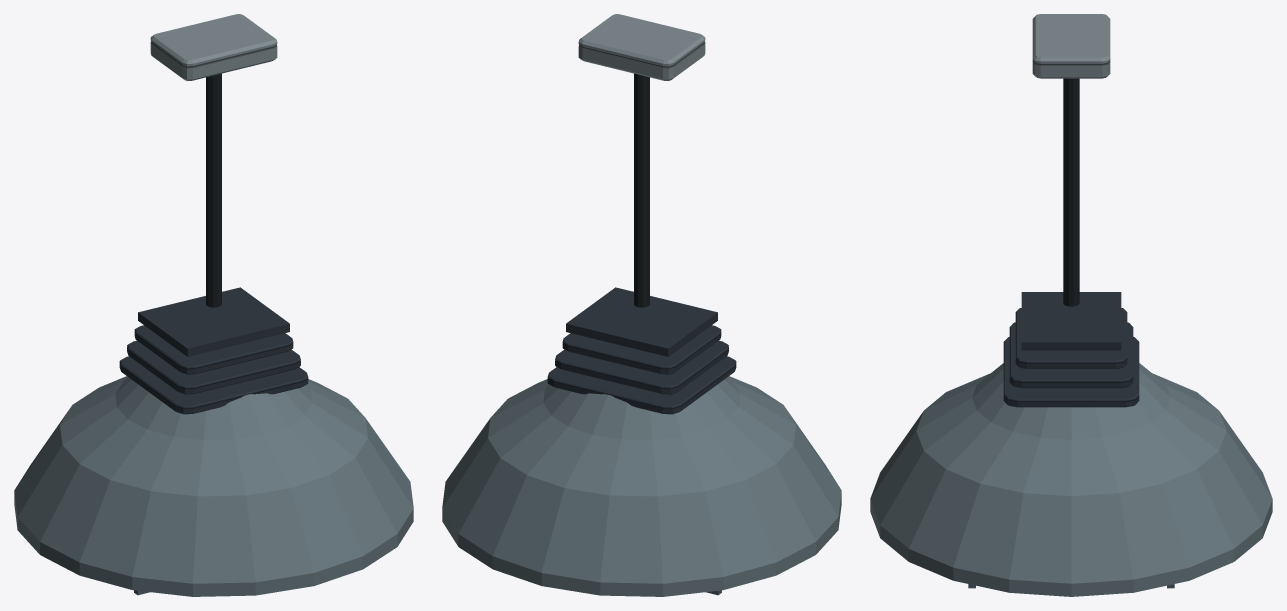
The model's file is HV-04_high_bay.glb.
3 renders of one model, left to right at view 1: azimuth 30°, elevation 25°; view 2: azimuth 150°, elevation 25°; view 3: azimuth 270°, elevation 25°, orthographic.
Visible parts, largest first — view 1: HV-04_high_bay; view 2: HV-04_high_bay; view 3: HV-04_high_bay.
Part boxes in pixels (x1,y1,x2,y2): HV-04_high_bay: (14, 14, 413, 596); HV-04_high_bay: (442, 14, 841, 596); HV-04_high_bay: (870, 14, 1272, 596).
Bounding box in the file's own units: 1.66 × 2.23 × 1.66.
